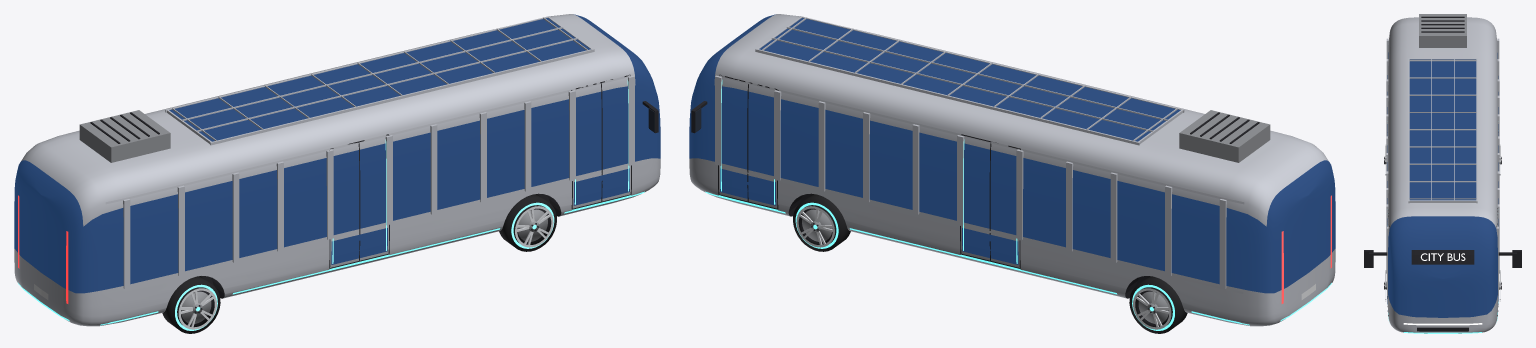
Rendered from city_bus.glb.
3 views of the same model, side by side, from view 1: azimuth 30°, elevation 25°; view 2: azimuth 150°, elevation 25°; view 3: azimuth 270°, elevation 25° (orthographic). The views are drawn at different scales.
Visible parts, largest first — view 1: Futuristic_Bus_Body, Futuristic_Bus_Details, Futuristic_Bus_Decals, Futuristic_Bus_Wheel_RL, Futuristic_Bus_Wheel_FL; view 2: Futuristic_Bus_Body, Futuristic_Bus_Details, Futuristic_Bus_Decals, Futuristic_Bus_Wheel_RR, Futuristic_Bus_Wheel_FR; view 3: Futuristic_Bus_Body, Futuristic_Bus_Details, Futuristic_Bus_Decals, Futuristic_Bus_Sign_Text.
Boxes of the visible parts, x1,y1,x2,y2 form: Futuristic_Bus_Body: [14, 14, 660, 326]; Futuristic_Bus_Details: [79, 16, 658, 288]; Futuristic_Bus_Decals: [18, 74, 644, 325]; Futuristic_Bus_Wheel_RL: [162, 276, 220, 333]; Futuristic_Bus_Wheel_FL: [499, 194, 556, 251]; Futuristic_Bus_Body: [689, 14, 1335, 326]; Futuristic_Bus_Details: [691, 16, 1270, 288]; Futuristic_Bus_Decals: [705, 74, 1331, 325]; Futuristic_Bus_Wheel_RR: [1129, 276, 1187, 333]; Futuristic_Bus_Wheel_FR: [793, 194, 850, 251]; Futuristic_Bus_Body: [1387, 17, 1498, 333]; Futuristic_Bus_Details: [1364, 14, 1521, 295]; Futuristic_Bus_Decals: [1387, 48, 1498, 333]; Futuristic_Bus_Sign_Text: [1420, 253, 1465, 260].
Bounding box in the file's own units: 54.32 × 16.37 × 16.37.
